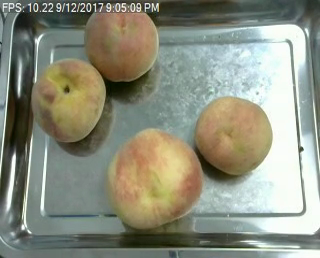Peach: (108, 126, 202, 229), (30, 58, 105, 144), (193, 96, 273, 176), (84, 3, 158, 82)
